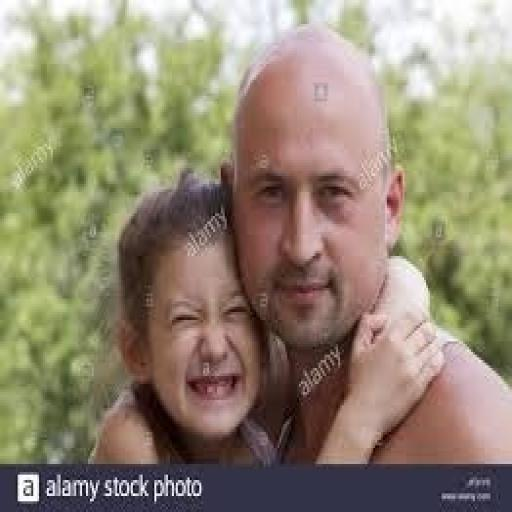hugging: (84, 21, 510, 467)
